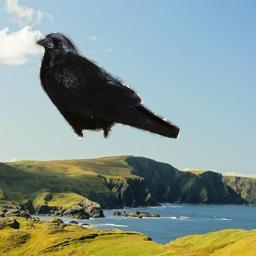Crow: (34, 32, 180, 139)
